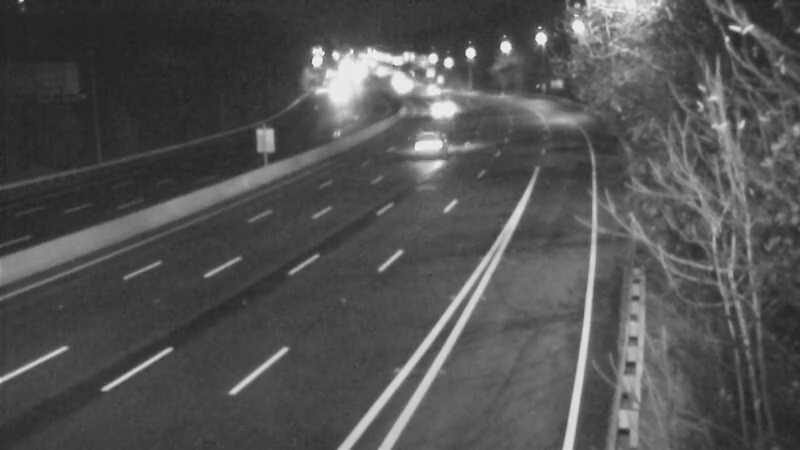vehicle: (403, 65, 453, 115), (419, 82, 469, 132), (408, 113, 458, 163)
